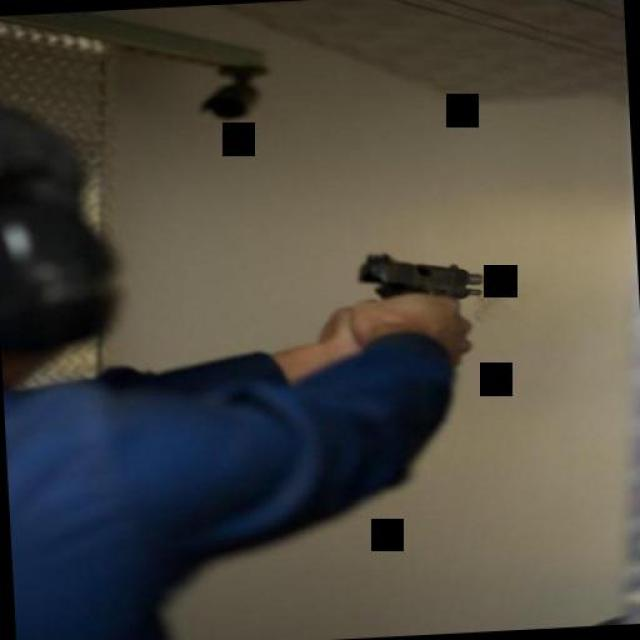gun: (346, 239, 496, 311)
